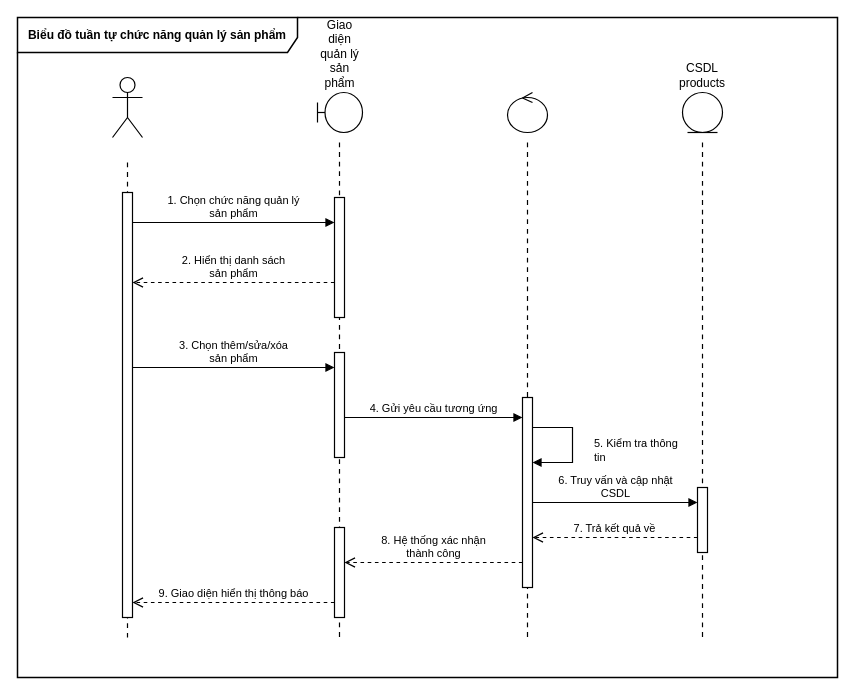
Some shapes in this 856 by 696 pixel diagram are drawn without their labels. Each missing label, with the centre of its shape:
"Admin" goes at point 127,107.
"Hệ thống xử lý" goes at point 527,112.
